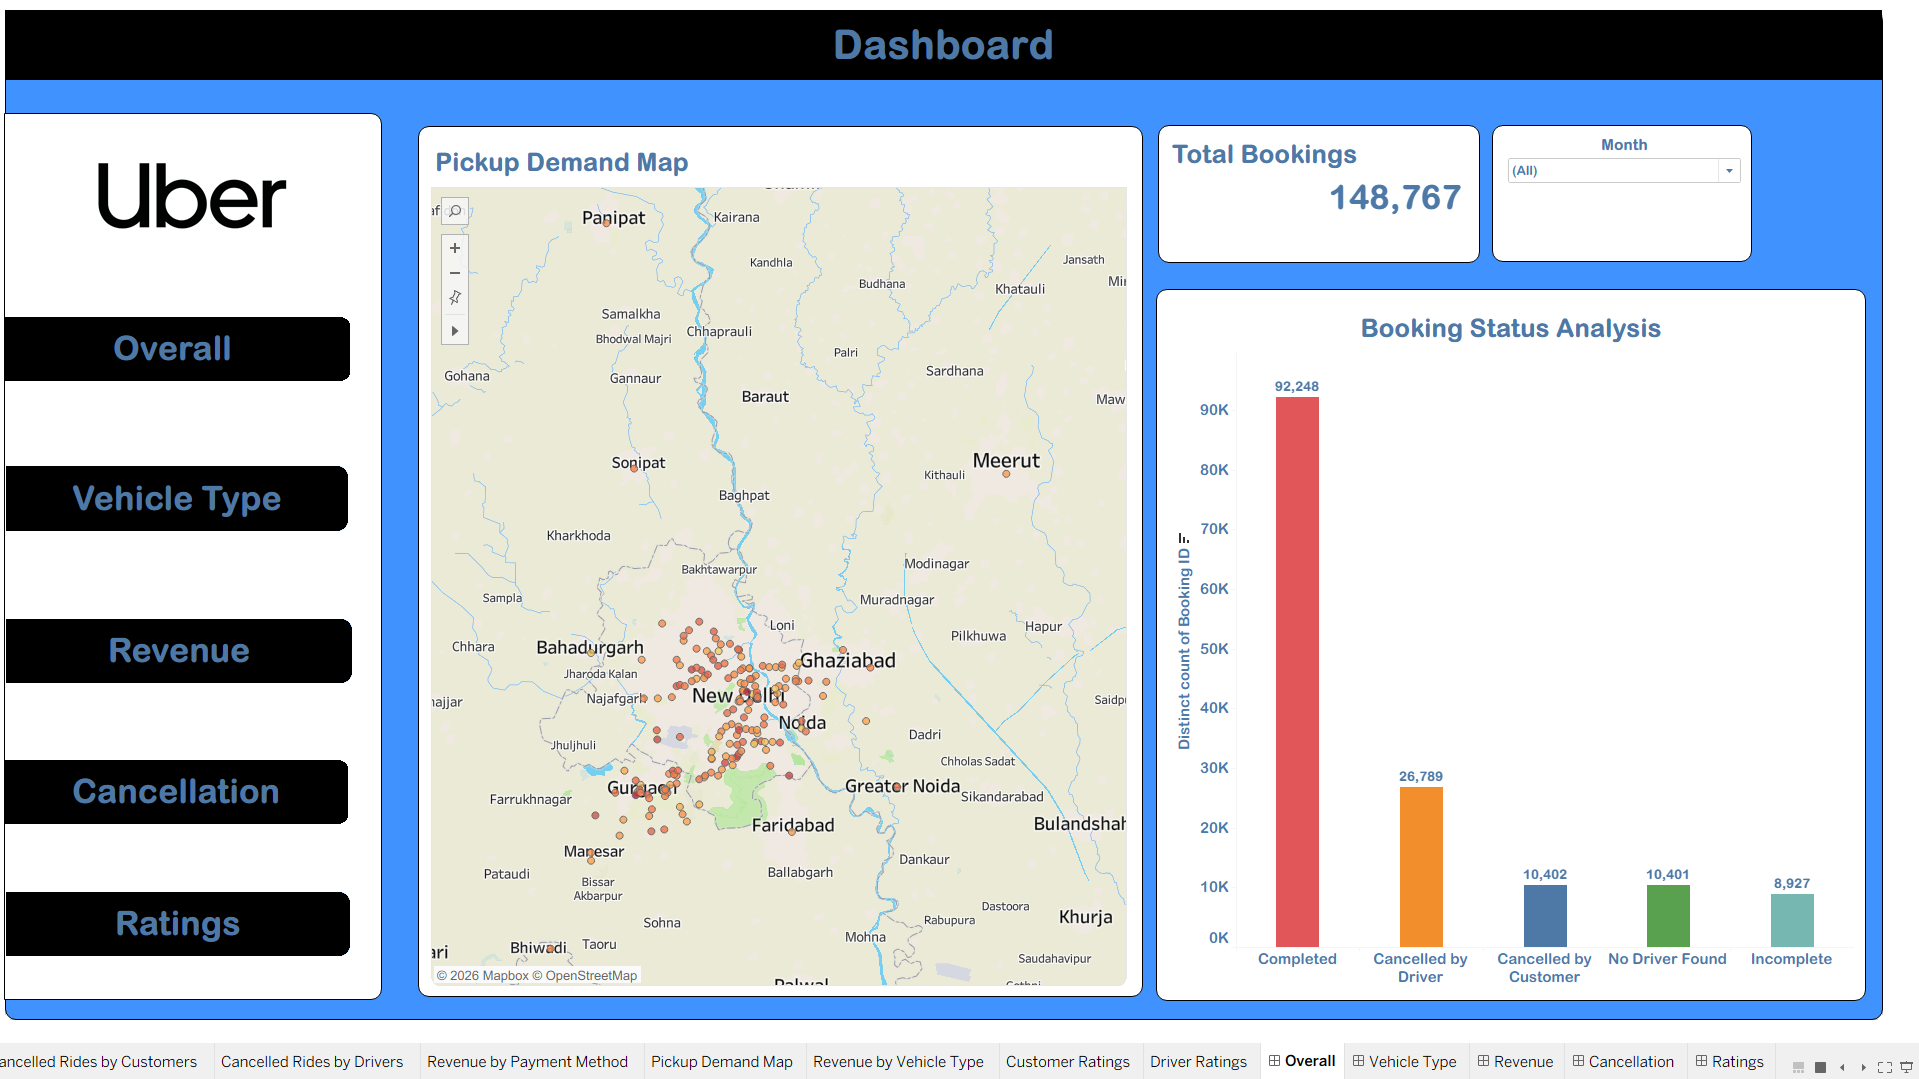

What the dashboard file says about the page in this screenshot:
{"tool":"tableau","page":{"name":"Overall","canvas":[1000,1000],"units":"permille","ordinal":1},"visuals":[{"type":"text","box":[2.4,9.4,977.7,67]},{"type":"blank","box":[2.3,108.1,196.8,850.8]},{"type":"image","param":"Image/download.png","box":[2.3,109.3,196.2,156.3]},{"type":"blank","box":[602.9,119.9,167.8,132.8]},{"type":"blank","box":[777.3,119.9,135.2,131.6]},{"type":"blank","box":[217.9,121,377.8,835.5]},{"type":"worksheet","title":"KPI - Total Bookings","mark":"Automatic","box":[608.3,129.3,154.5,109.3]},{"type":"filter","title":"Booking Status Analysis","param":"[federated.0lg7k9d1ug5kob1dznf3a0nvakxs].[mn:Date:ok]","box":[784,130.4,124.3,84.6]},{"type":"worksheet","title":"Pickup Demand Map","mark":"Multipolygon","rows":["Pickup Lat"],"cols":["Pickup Long"],"box":[224.5,137.5,362.7,808.5]},{"type":"blank","box":[602.3,277.3,369.9,682.7]},{"type":"worksheet","title":"Booking Status Analysis","mark":"Bar","rows":["Booking ID"],"cols":["Booking Status"],"box":[608.3,296.1,357.3,649.8]},{"type":"dashboard-object","box":[2.3,304.4,180.4,61.1]},{"type":"dashboard-object","box":[2.9,446.5,178.1,62.3]},{"type":"dashboard-object","box":[2.9,593.4,180.4,61.1]},{"type":"dashboard-object","box":[2.3,728.6,179.3,61.1]},{"type":"dashboard-object","box":[2.9,855.5,179.3,61.1]}]}

Visuals, with their boxes on the dashboard's canvas, which has no fixed pixel size, in thousandths of its width and height (x1, y1, x2, y2). These are canvas units, not pixel positions in the 1919x1079 screenshot, which may show the page scaled, cropped or inside an application window:
text: [2, 9, 980, 76]
blank: [2, 108, 199, 959]
image: [2, 109, 198, 266]
blank: [603, 120, 771, 253]
blank: [777, 120, 912, 252]
blank: [218, 121, 596, 956]
"KPI - Total Bookings" worksheet: [608, 129, 763, 239]
"Booking Status Analysis" filter: [784, 130, 908, 215]
"Pickup Demand Map" worksheet (Multipolygon marks): [224, 138, 587, 946]
blank: [602, 277, 972, 960]
"Booking Status Analysis" worksheet (Bar marks): [608, 296, 966, 946]
dashboard-object: [2, 304, 183, 366]
dashboard-object: [3, 446, 181, 509]
dashboard-object: [3, 593, 183, 654]
dashboard-object: [2, 729, 182, 790]
dashboard-object: [3, 856, 182, 917]
